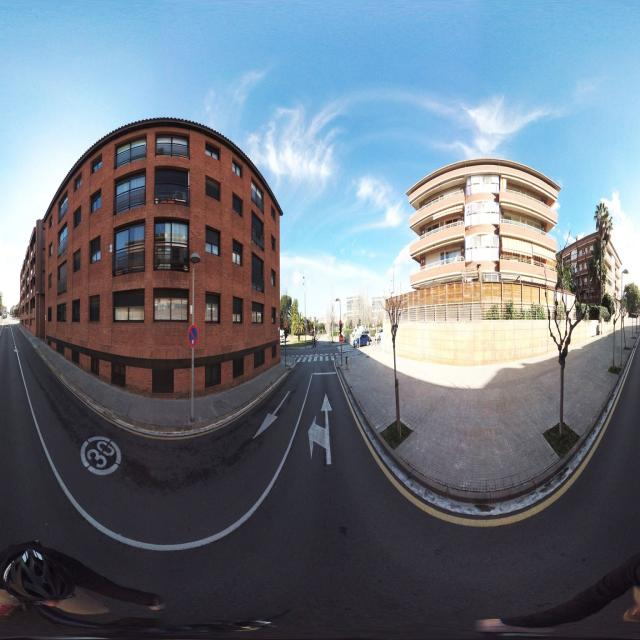forb_stopping: (187, 320, 199, 351)
